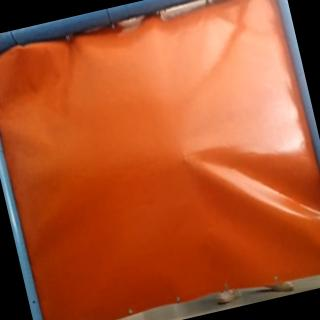Hit-hRxx: (176, 152, 192, 166)
